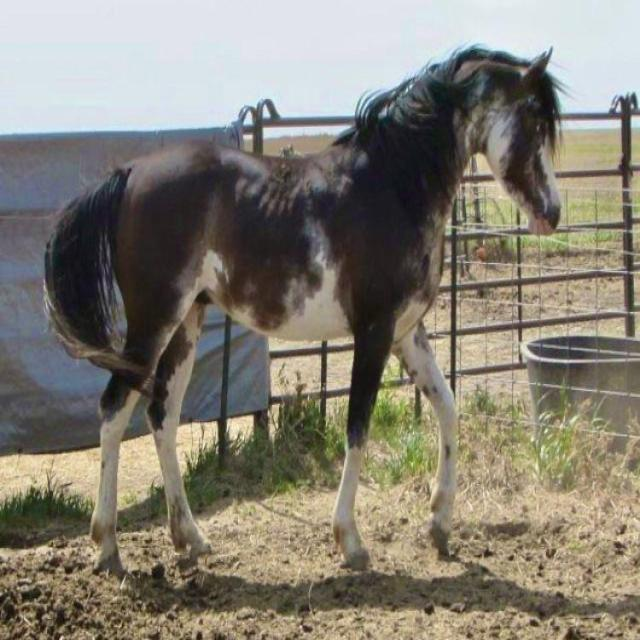horse: (42, 42, 572, 581)
